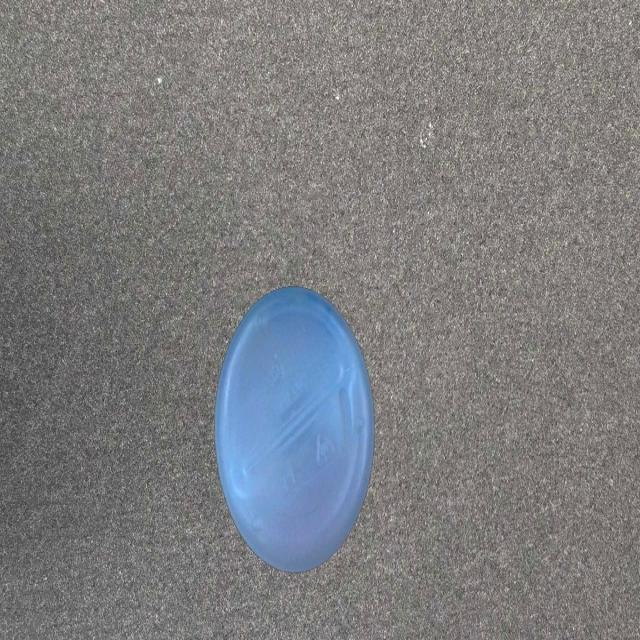bottle: (215, 284, 377, 574)
